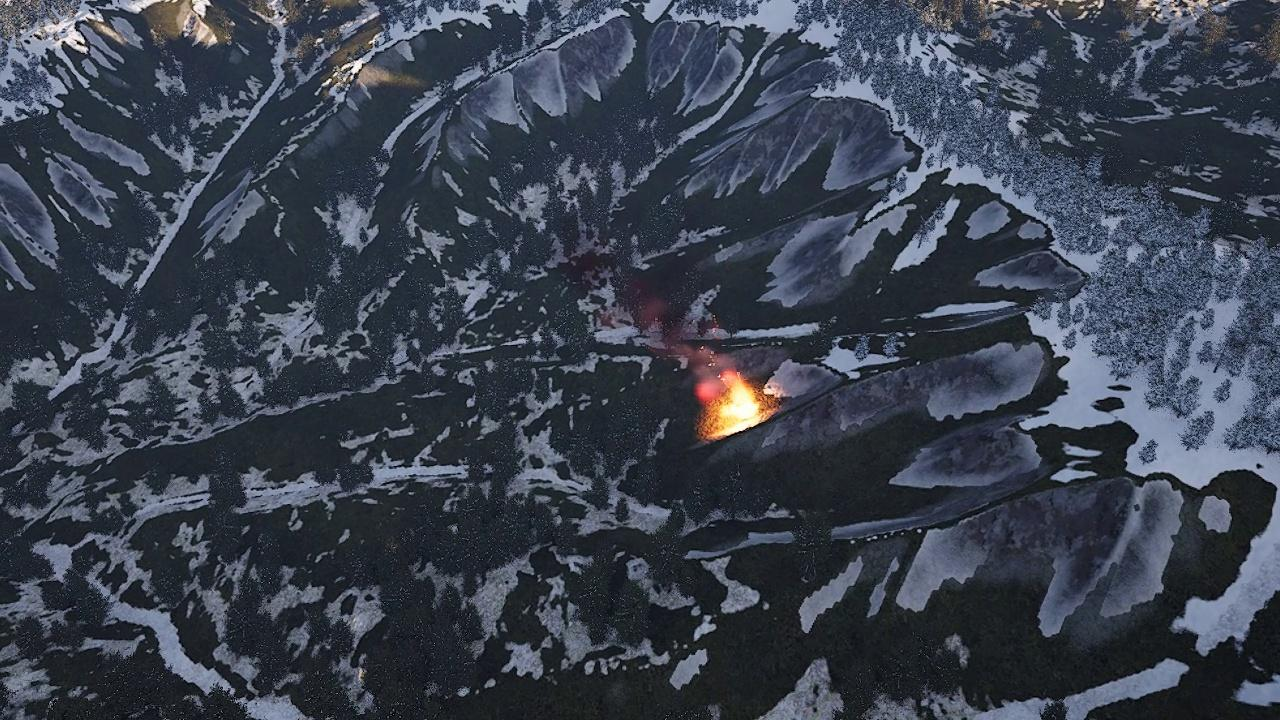fire: (695, 374, 768, 434)
smoke: (572, 244, 743, 396)
